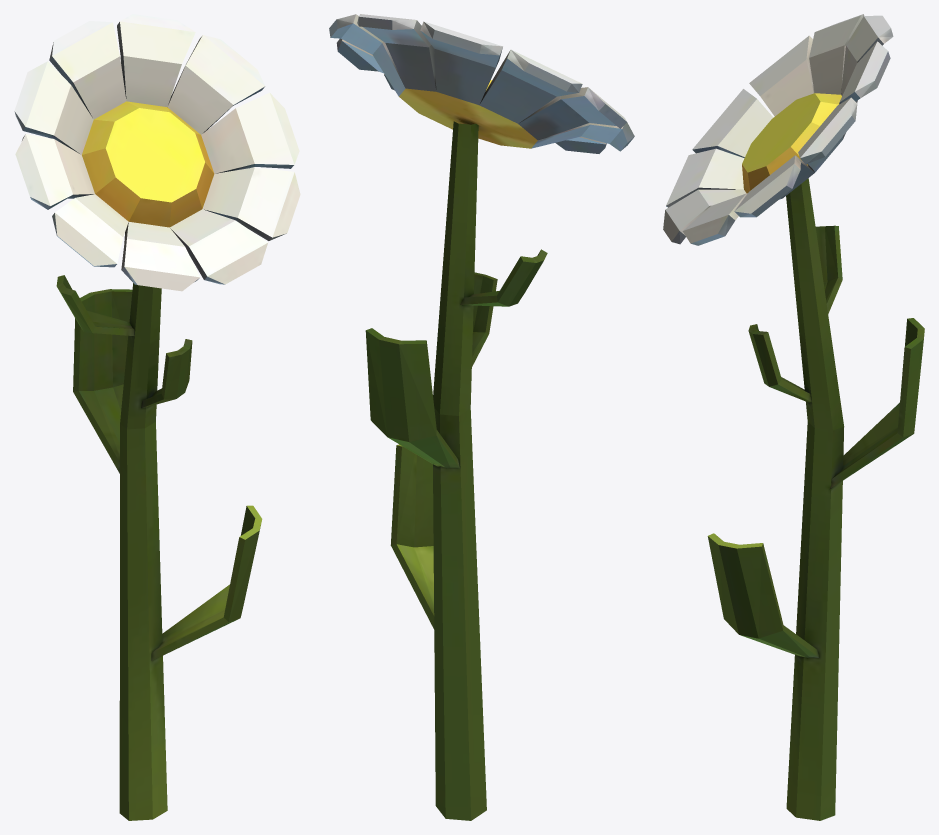
File: daisyG.glb
3 renders of one model, left to right at view 1: azimuth 30°, elevation 25°; view 2: azimuth 150°, elevation 25°; view 3: azimuth 270°, elevation 25°, orthographic. The views are drawn at different scales.
Parts seen in each view (by area): view 1: daisy; view 2: daisy; view 3: daisy.
Part boxes in pixels (bbox=[...]): daisy: bbox=[14, 14, 300, 820]; daisy: bbox=[329, 14, 634, 820]; daisy: bbox=[663, 14, 924, 820].
Bounding box in the file's own units: 0.7559 × 2.1 × 0.639.
1 material, 1 textured.
